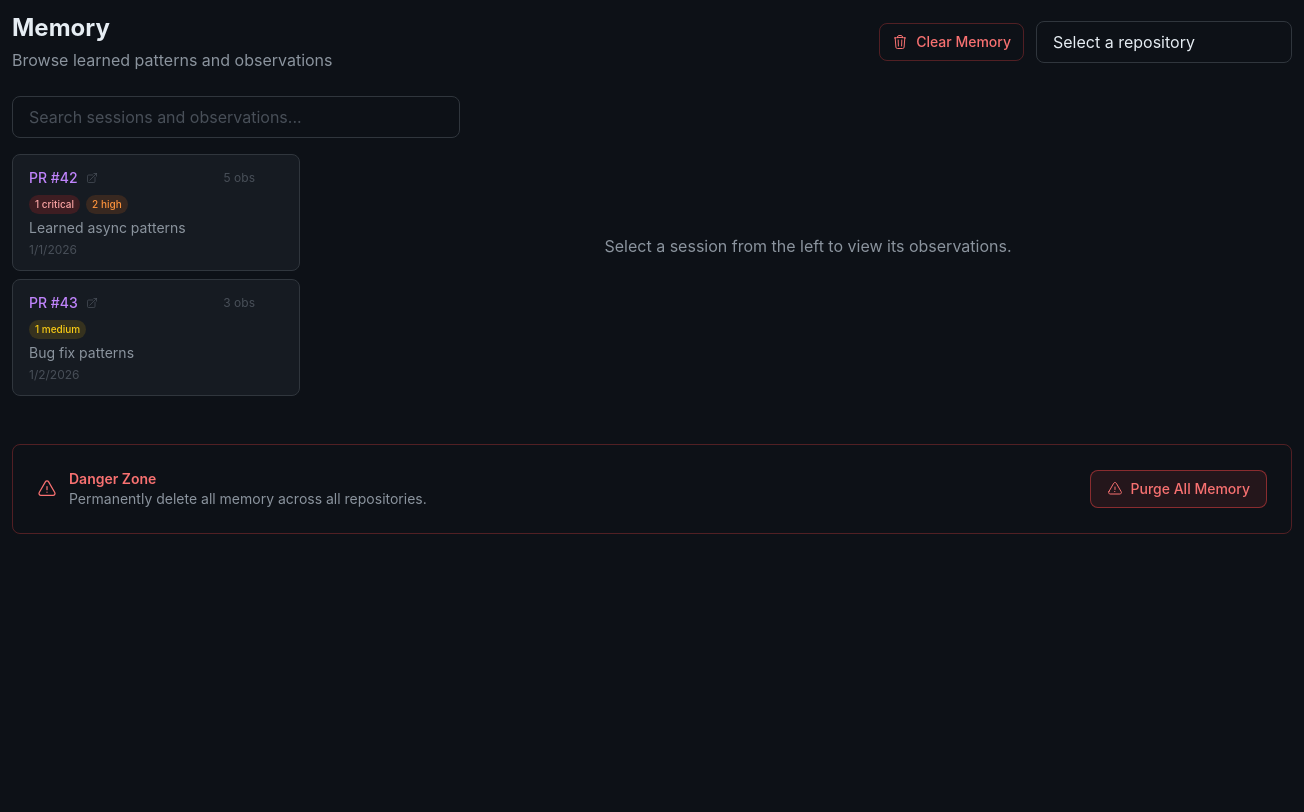
Test case: Memory page — Tier 1 (delete observation) › renders delete buttons on observation cards when a session is selected
// Click a session to select it
Click the text "PR #42". click: (53, 178)
box: x1=29 y1=168 x2=78 y2=188
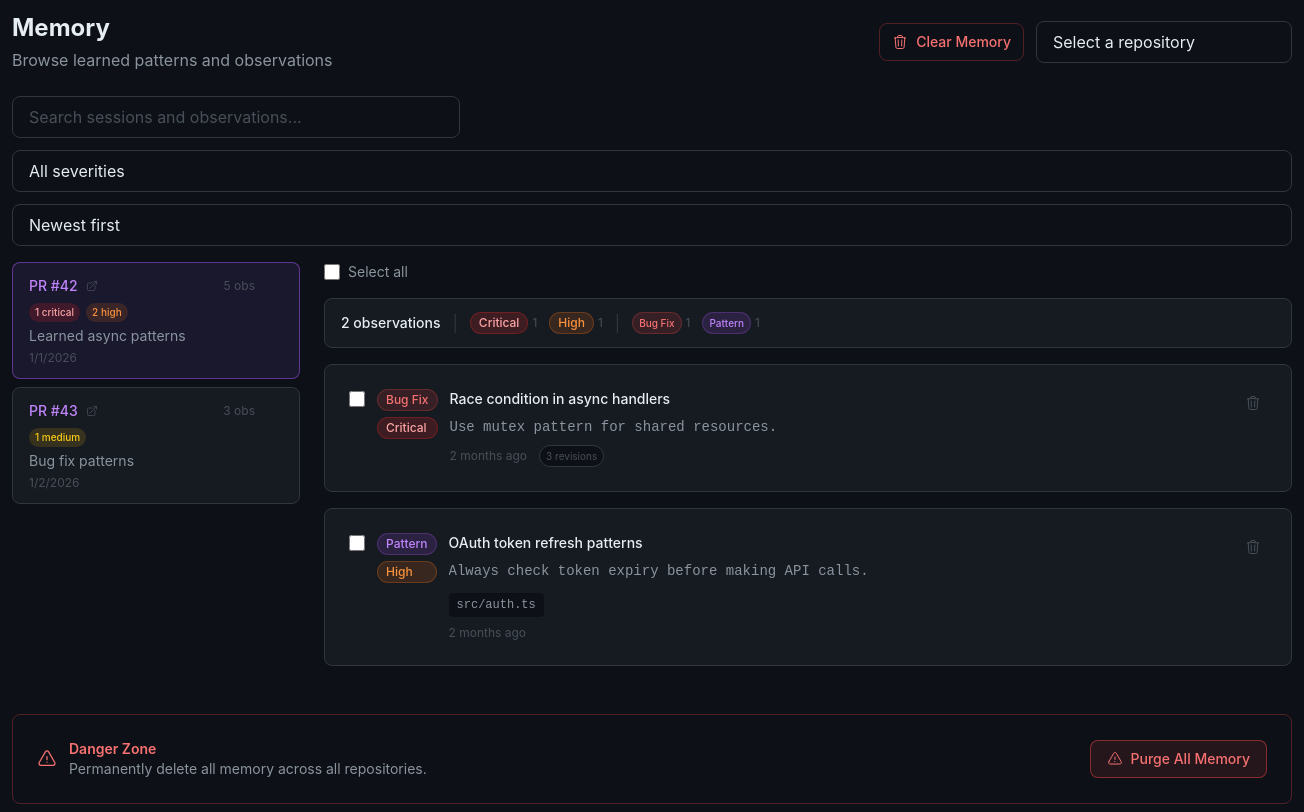
Check: the number of buttons titled "Delete observation" is 2, box x1=1239 y1=389 x2=1267 y2=417; x1=1239 y1=533 x2=1267 y2=561
